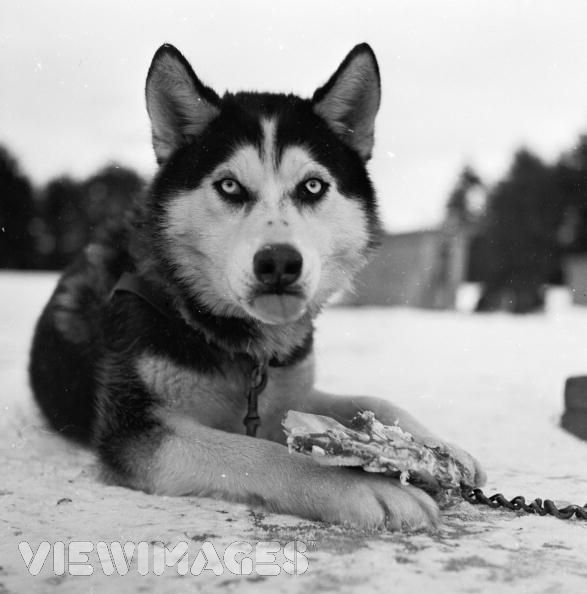dog: (28, 38, 481, 536)
